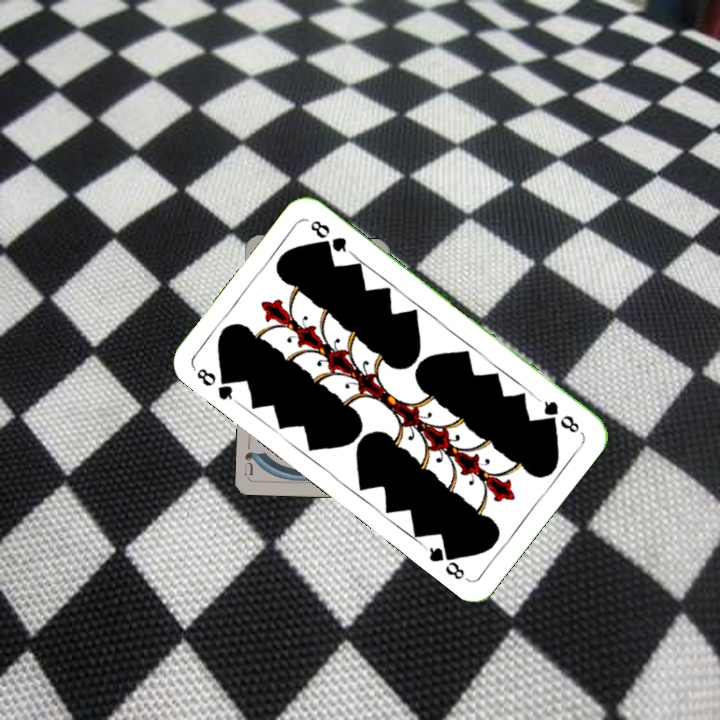G8: (190, 364, 240, 406), (534, 395, 582, 436)
